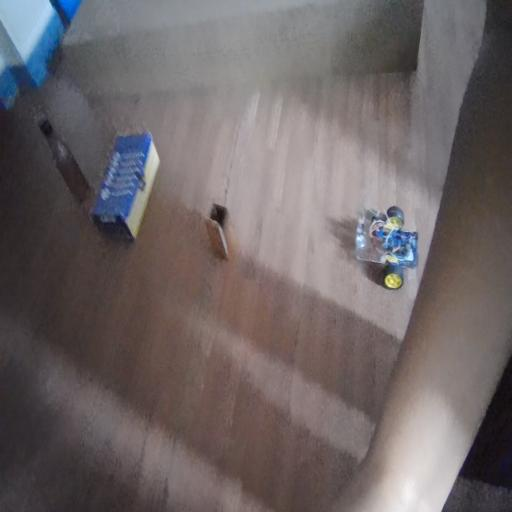Bottle: (34, 109, 87, 208)
car: (341, 185, 426, 301)
